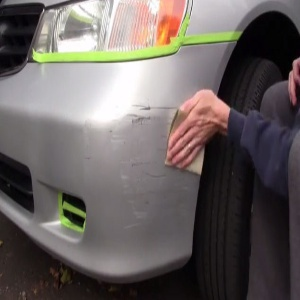bumper_scratch: (92, 97, 166, 230)
